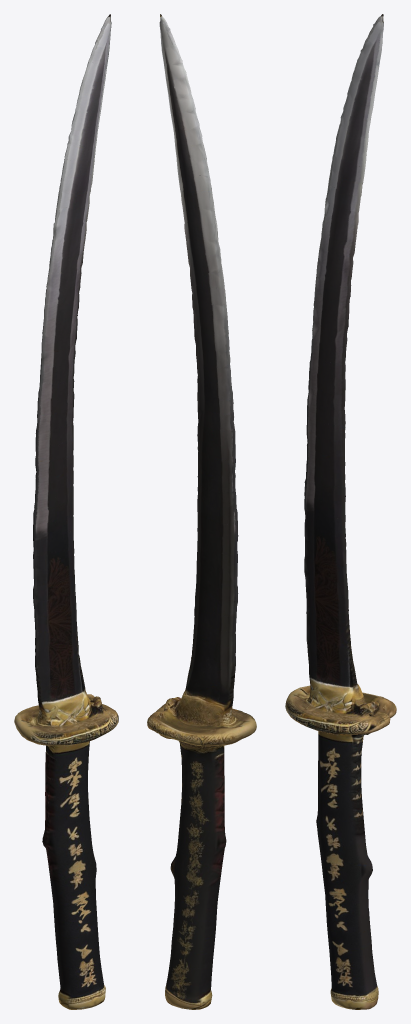
The model's file is katana.glb.
3 views of the same model, side by side, from view 1: azimuth 30°, elevation 25°; view 2: azimuth 150°, elevation 25°; view 3: azimuth 330°, elevation 25° (orthographic).
Bounding box in the file's own units: 0.2339 × 2.35 × 0.1786.
Materials: 1 (1 with a texture image).
